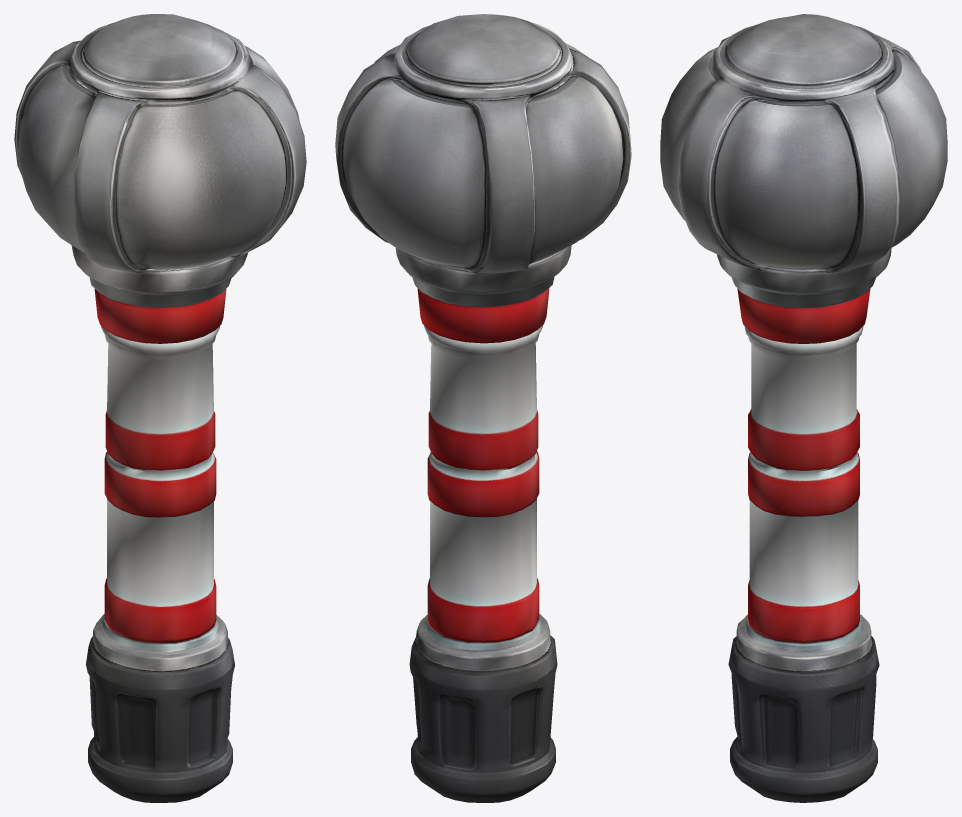
Rendered from mace_silver.fbx.
3 renders of one model, left to right at view 1: azimuth 30°, elevation 25°; view 2: azimuth 150°, elevation 25°; view 3: azimuth 270°, elevation 25°, orthographic.
Parts seen in each view (by area): view 1: mace_silver; view 2: mace_silver; view 3: mace_silver.
Part boxes in pixels (box(x1,y1,x2,y2)): mace_silver: box(14, 14, 306, 802); mace_silver: box(335, 14, 631, 802); mace_silver: box(660, 14, 947, 802).
Size of the model in its own units: 0.2757 by 0.805 by 0.2788.
